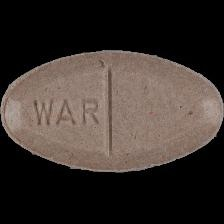21695-675: (0, 0, 224, 224)
